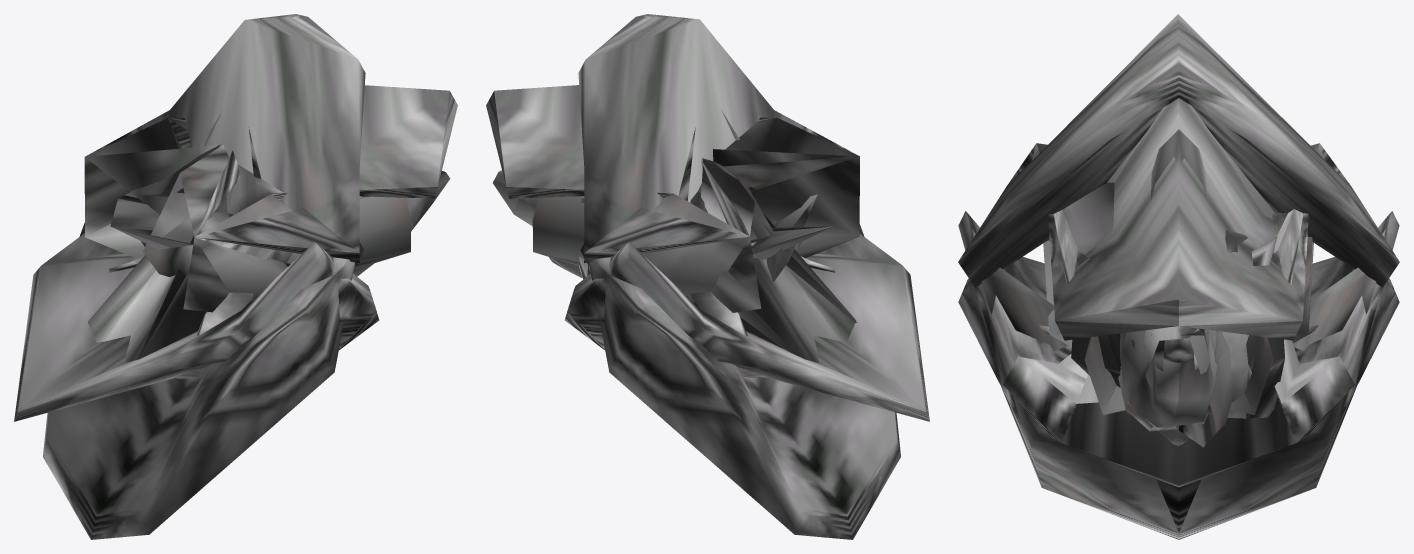
The model's file is CHAR_LITTLEROCKBADGER_BINDPOSE.fbx.
3 renders of one model, left to right at view 1: azimuth 30°, elevation 25°; view 2: azimuth 150°, elevation 25°; view 3: azimuth 270°, elevation 25°, orthographic. The views are drawn at different scales.
Parts seen in each view (by area): view 1: CHAR_LITTLEROCKBADGER_BINDPOSE; view 2: CHAR_LITTLEROCKBADGER_BINDPOSE; view 3: CHAR_LITTLEROCKBADGER_BINDPOSE.
Part boxes in pixels (bbox=[...]): CHAR_LITTLEROCKBADGER_BINDPOSE: bbox=[14, 14, 457, 539]; CHAR_LITTLEROCKBADGER_BINDPOSE: bbox=[486, 14, 929, 539]; CHAR_LITTLEROCKBADGER_BINDPOSE: bbox=[958, 14, 1399, 539].
Size of the model in its own units: 6036 by 6275 by 4038.
1 material, 1 textured.
